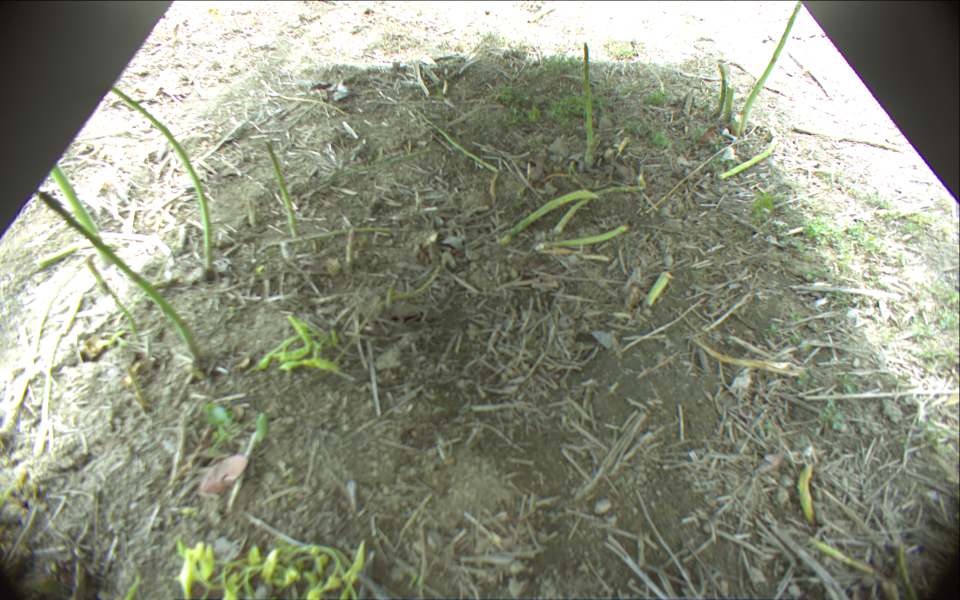aspa: (34, 185, 205, 367), (107, 85, 213, 269), (1, 290, 60, 447), (33, 287, 85, 453), (739, 1, 802, 130), (51, 164, 118, 269), (404, 101, 500, 171), (37, 228, 181, 268), (552, 180, 648, 235), (86, 255, 141, 337), (504, 187, 601, 232), (263, 142, 299, 237), (717, 130, 782, 179), (533, 224, 629, 252), (806, 536, 873, 575), (583, 42, 595, 164), (792, 465, 816, 521), (645, 269, 673, 305), (712, 64, 726, 116), (725, 86, 734, 120)
